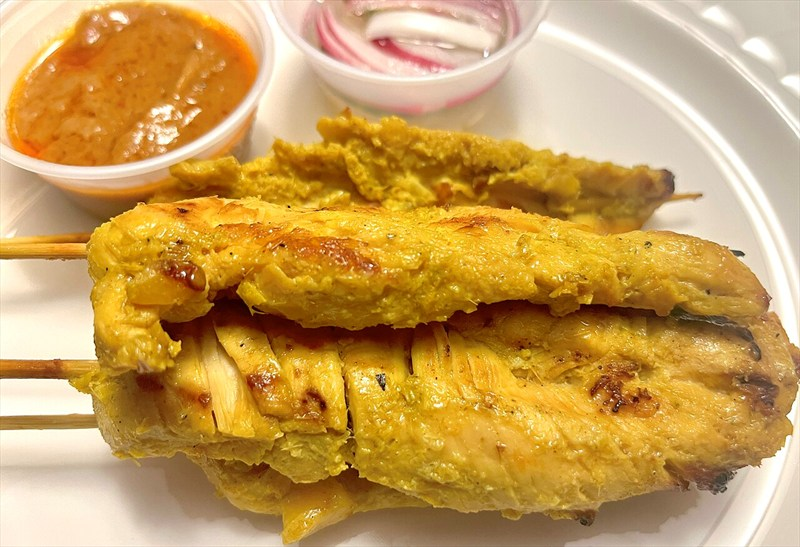Sate Ayam: (107, 127, 648, 457)
